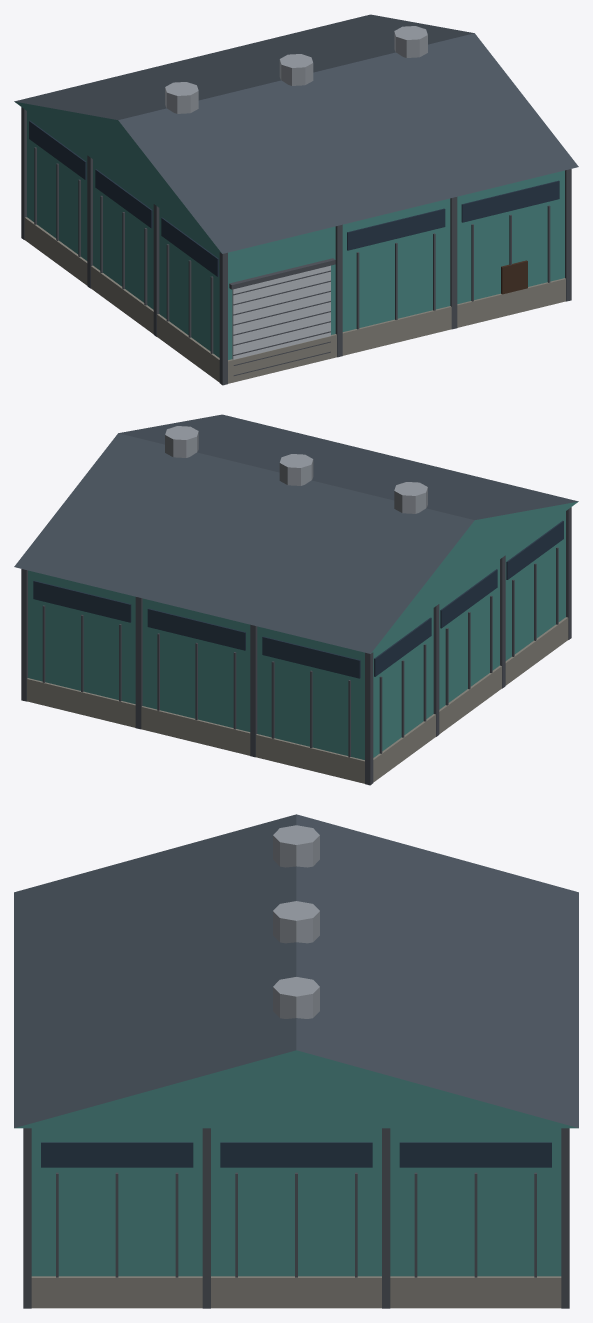
The picture shows the model from 3 angles, top to bottom: view 1: azimuth 30°, elevation 25°; view 2: azimuth 150°, elevation 25°; view 3: azimuth 270°, elevation 25°; orthographic projection. The views are drawn at different scales.
Parts seen in each view (by area): view 1: wh_d; view 2: wh_d; view 3: wh_d.
Boxes of the visible parts, x1,y1,x2,y2 form: wh_d: (14, 14, 578, 385); wh_d: (14, 414, 578, 785); wh_d: (14, 814, 578, 1308).
Size of what is drawn, in the model's own units: 16.6 by 9.26 by 16.8.
